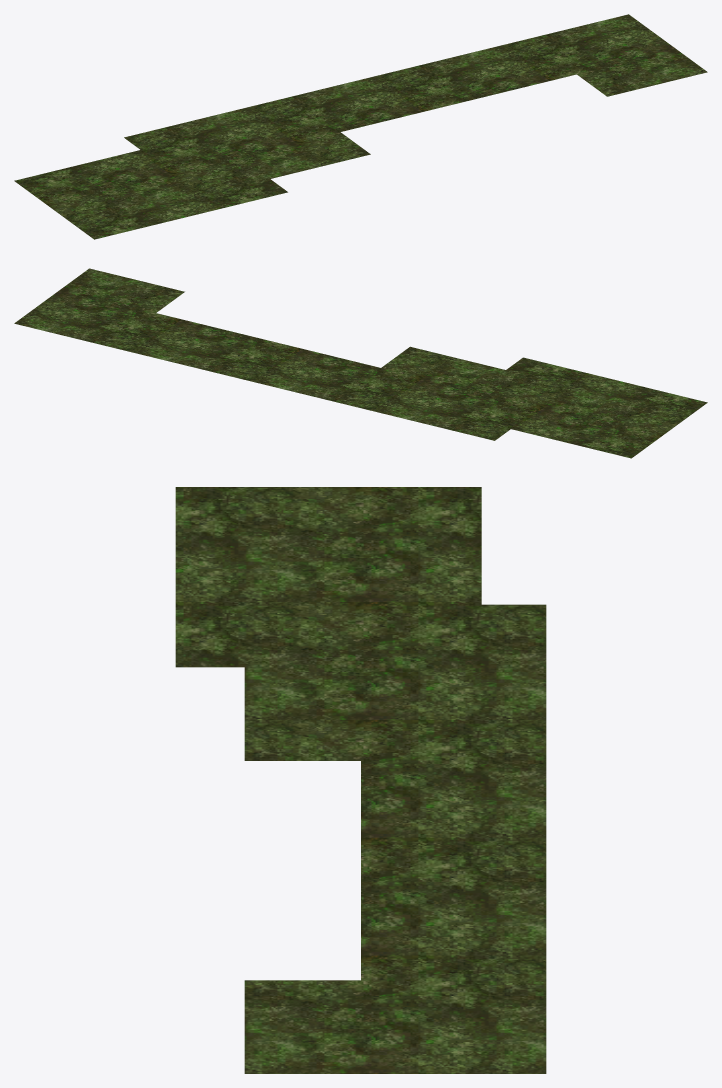
File: OVERHILL_A_01_LINE169.fbx
The picture shows the model from 3 angles, top to bottom: view 1: azimuth 30°, elevation 25°; view 2: azimuth 150°, elevation 25°; view 3: azimuth 270°, elevation 25°; orthographic projection. The views are drawn at different scales.
Parts seen in each view (by area): view 1: OVERHILL_A_01_LINE169; view 2: OVERHILL_A_01_LINE169; view 3: OVERHILL_A_01_LINE169.
Part boxes in pixels (box(x1,y1,x2,y2)): OVERHILL_A_01_LINE169: box(14, 14, 707, 239); OVERHILL_A_01_LINE169: box(14, 268, 707, 458); OVERHILL_A_01_LINE169: box(175, 487, 546, 1073).
Bounding box in the file's own units: 150000 × 0.0279 × 40000.
1 material, 1 textured.
